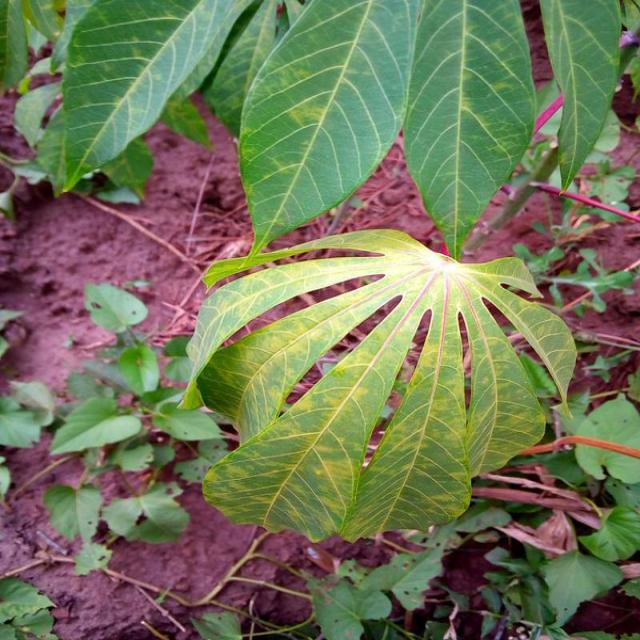cassava leaf: (178, 225, 577, 544), (237, 0, 420, 254), (35, 0, 257, 198), (402, 0, 536, 259), (538, 0, 622, 195)
